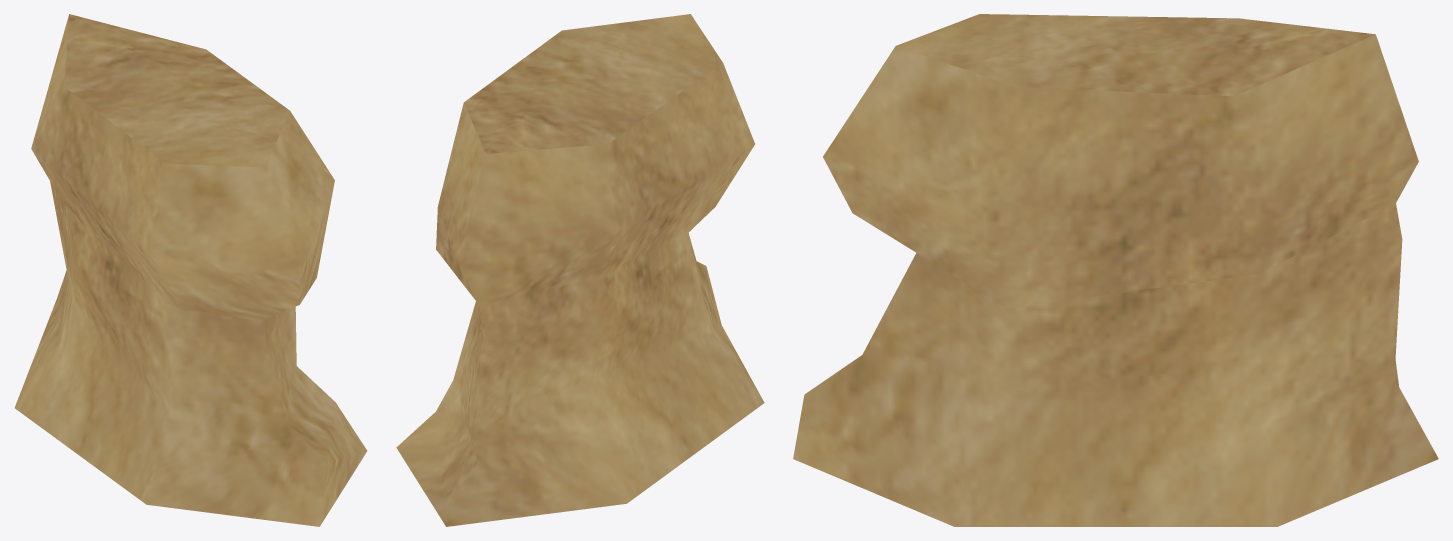
Rendered from rock_formation01.glb.
3 renders of one model, left to right at view 1: azimuth 30°, elevation 25°; view 2: azimuth 150°, elevation 25°; view 3: azimuth 270°, elevation 25°, orthographic. The views are drawn at different scales.
Visible parts, largest first — view 1: RR_Prop1; view 2: RR_Prop1; view 3: RR_Prop1.
Boxes of the visible parts, box(x1,y1,x2,y2) form: RR_Prop1: box(14, 14, 367, 526); RR_Prop1: box(396, 14, 764, 526); RR_Prop1: box(793, 14, 1438, 526).
Size of the model in its own units: 11.19 by 16.52 by 23.16.
1 material, 1 textured.
